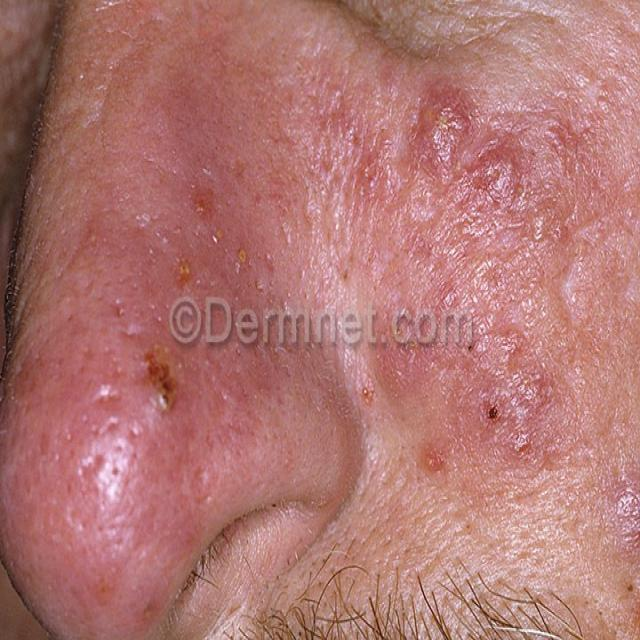Rosacea: (11, 172, 272, 617), (353, 76, 569, 478)
